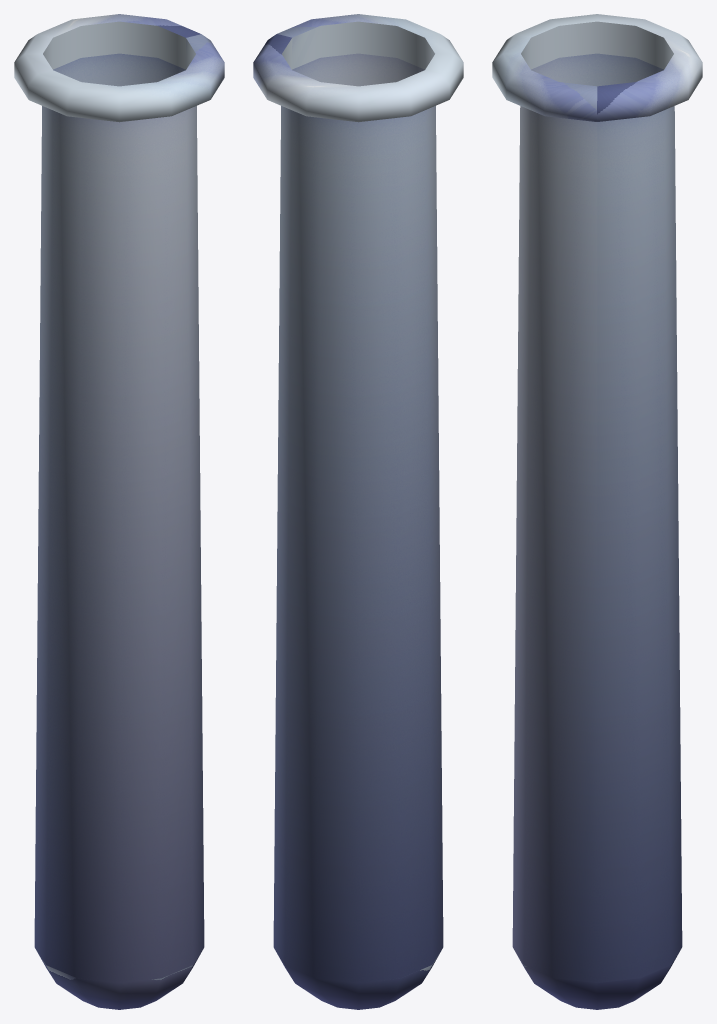
The model's file is probeta.fbx.
3 renders of one model, left to right at view 1: azimuth 30°, elevation 25°; view 2: azimuth 150°, elevation 25°; view 3: azimuth 270°, elevation 25°, orthographic.
Parts seen in each view (by area): view 1: Exterior; view 2: Exterior; view 3: Exterior.
Boxes of the visible parts, x1,y1,x2,y2 form: Exterior: (14, 14, 224, 1009); Exterior: (253, 14, 463, 1009); Exterior: (492, 14, 702, 1009).
Bounding box in the file's own units: 31.4 × 156 × 31.4.
Materials: 2 (2 with a texture image).
